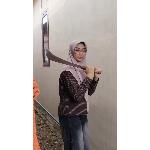Golok: (45, 46, 101, 72)
